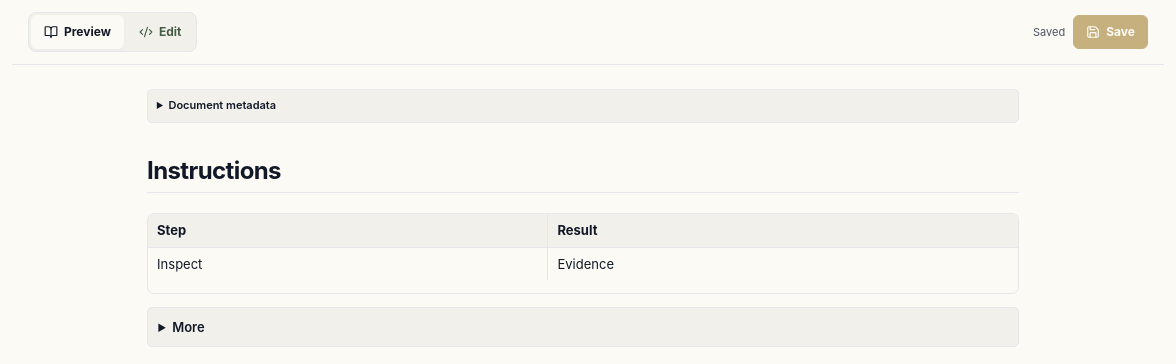
Test: MarkdownEditor › previews Markdown by default and preserves the exact source when switching modes
Expected: the heading "Instructions" is shown, [147,156,1019,194]
Expected: the table is shown, [148,214,1018,280]
Click the button "Edit" at (160, 32), box [126,15,194,49]
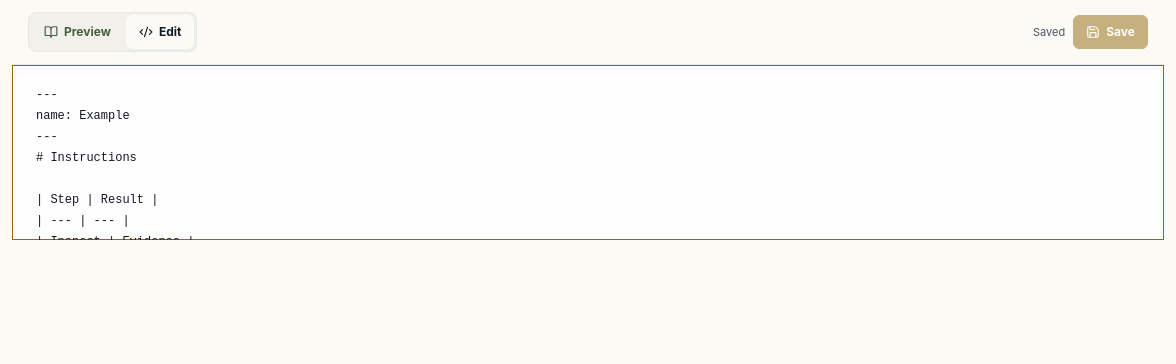
Click the button "Preview" at (77, 32), box [31,15,124,49]
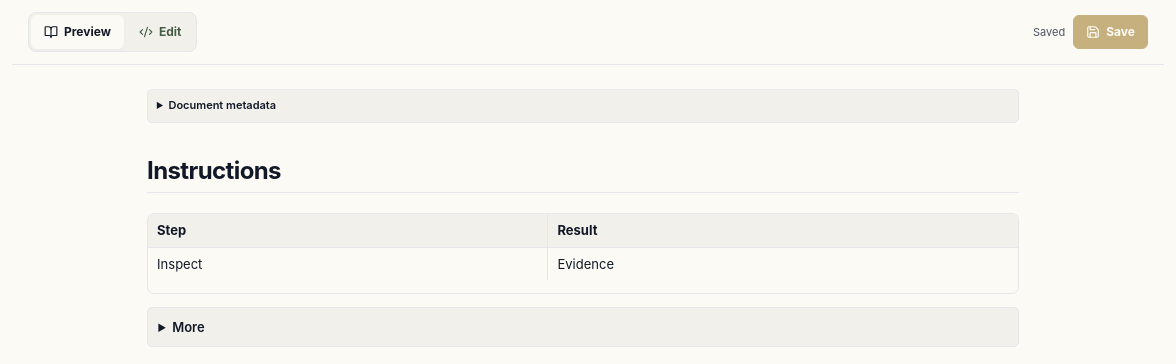
Expected: the heading "Instructions" is shown, [147,156,1019,194]
